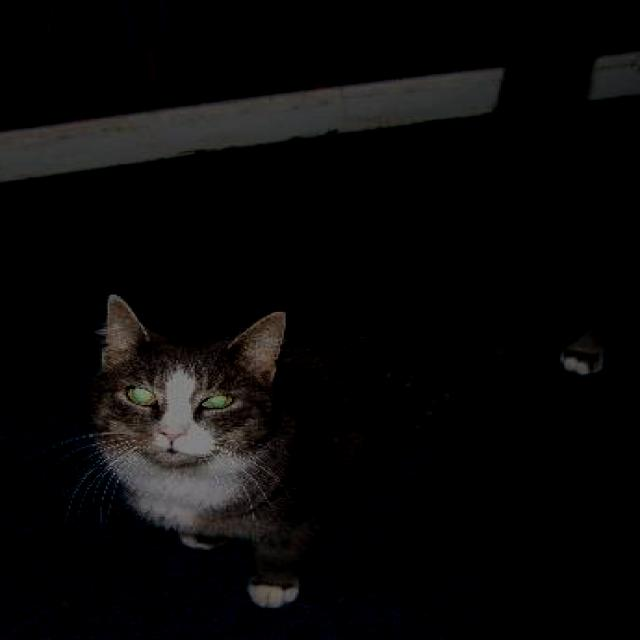Kucing: (25, 44, 598, 593)
